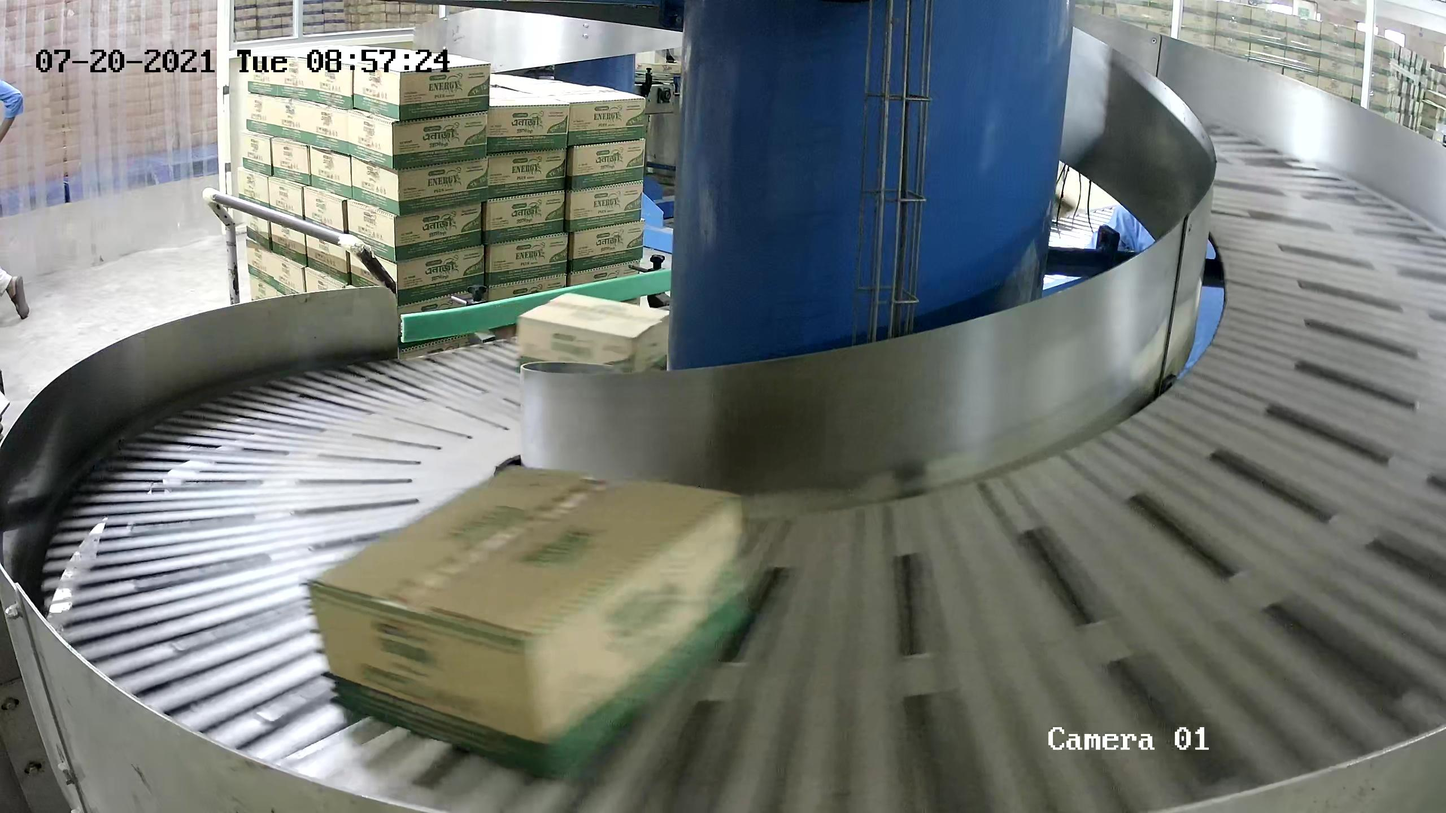Box: (302, 461, 754, 786), (515, 291, 670, 375)
